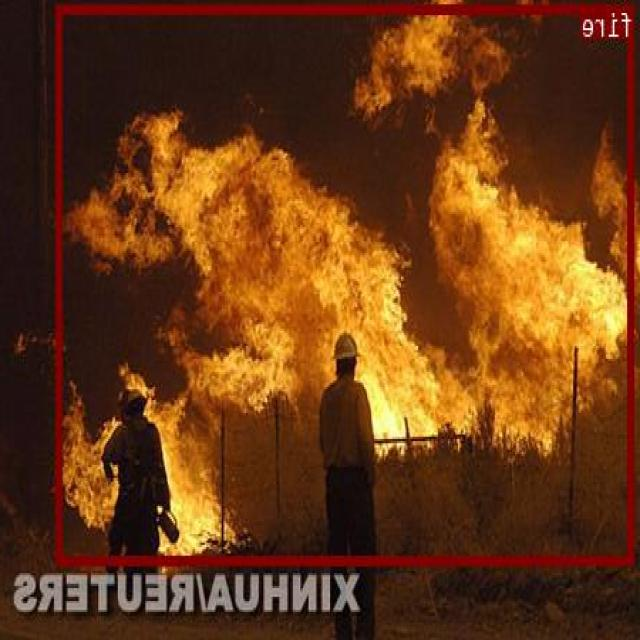fire: (58, 3, 635, 563)
